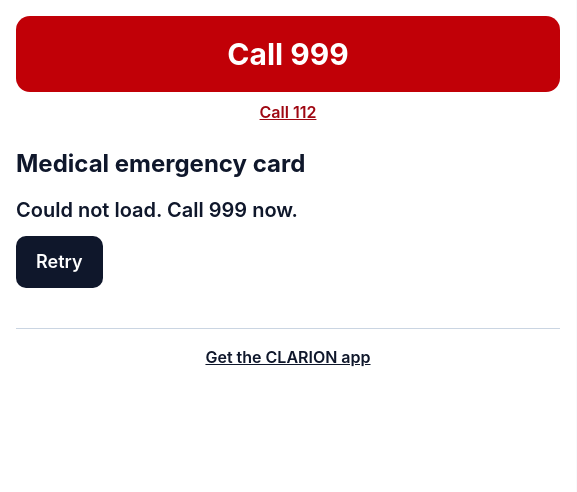
EmergencyPublic › network error shows a friendly message and Retry reloads immediately
expect the message shows "Could not load. Call 999 now.": met, box [16,198,298,222]
Click the button "Retry" at (59, 262), box [16,236,102,288]
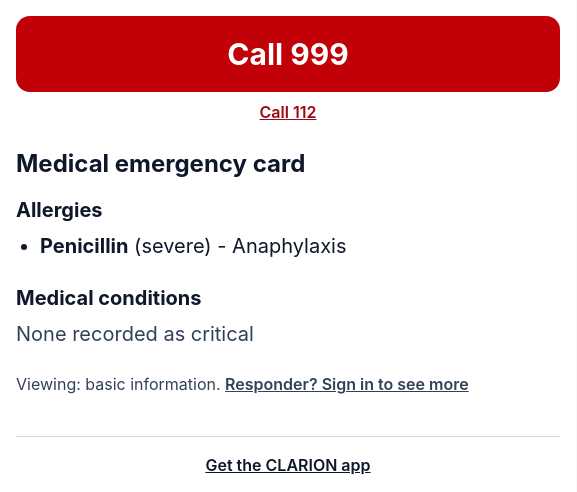
expect the text "Penicillin" is shown: met, box [40,234,128,258]
